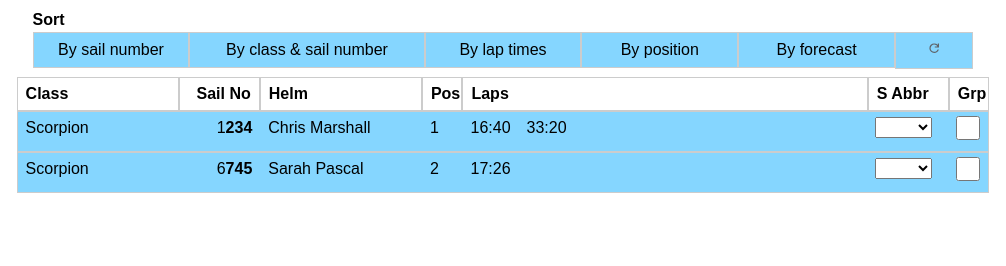
Test case: when removing a lap time › clears error message on success
Type keys "{Control>}"
Click the element showing "1234". click: (221, 127)
box: top-left (217, 119), bottom-right (252, 136)
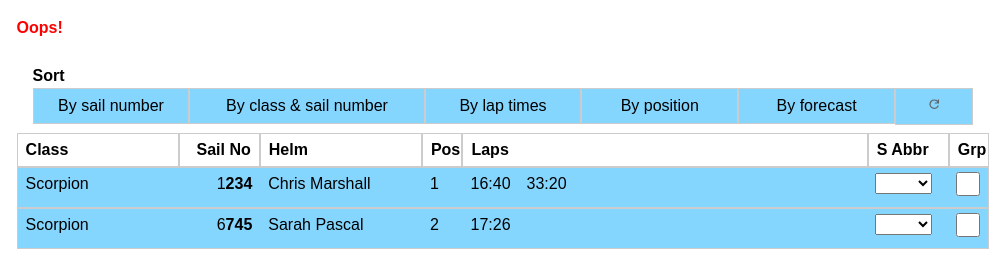
Check: the text "Oops!" is shown, box top-left (17, 19), bottom-right (63, 36)
Type keys "{Control>}"
Click the element showing "1234". click: (221, 183)
box: top-left (217, 175), bottom-right (252, 192)
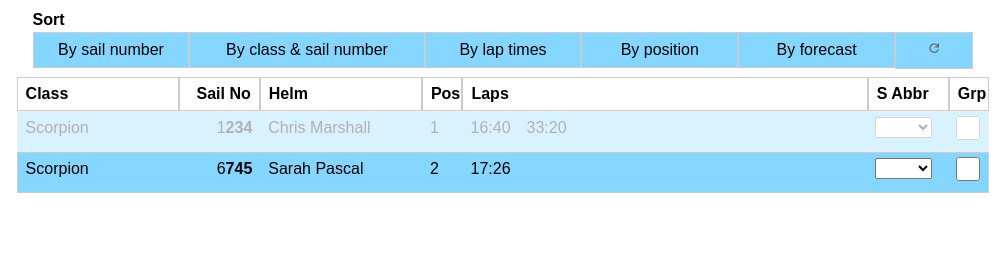
Check: the text "Oops" is gone
